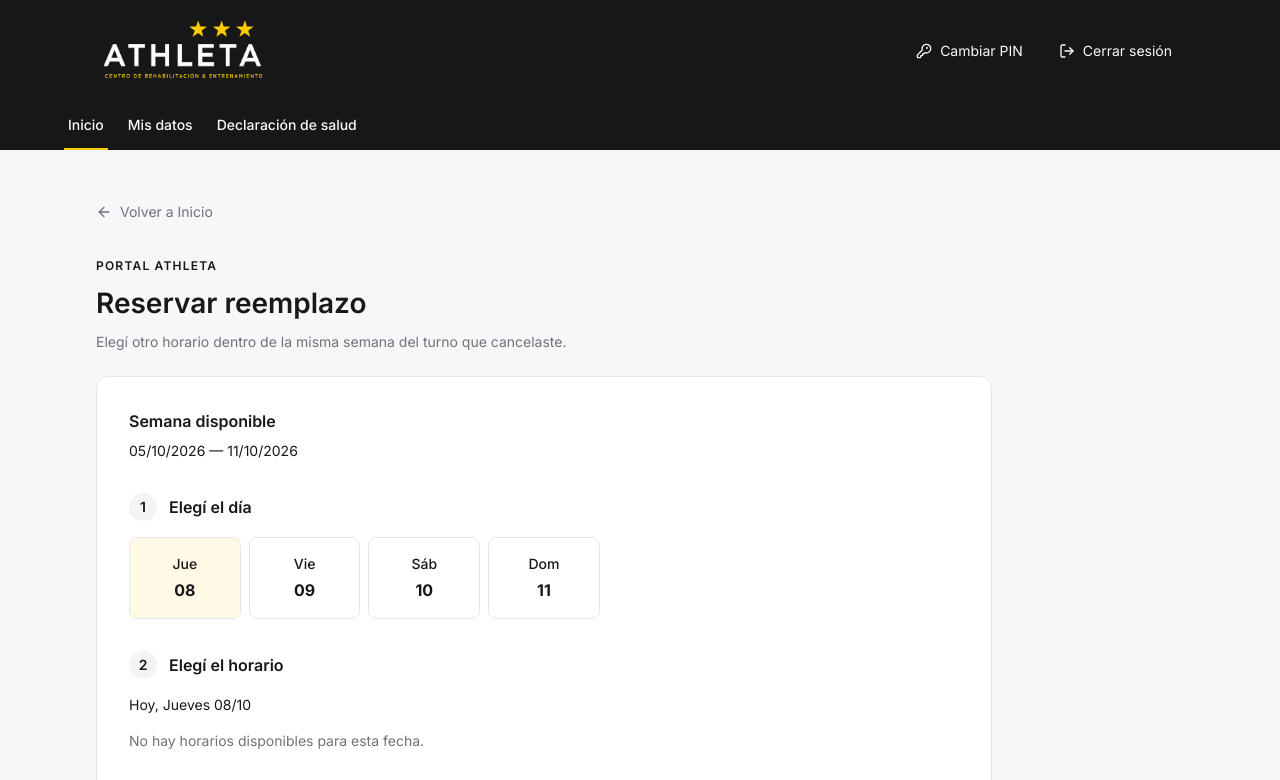
Scenario: retains tomorrow’s activities even when their equivalent time has passed today
Expected: the text "No hay horarios disponibles para esta fecha." is shown, [129,732,424,749]
Click the button with aria-label "viernes 09/10": (305, 578) [249,537,360,619]
(page scrolled)
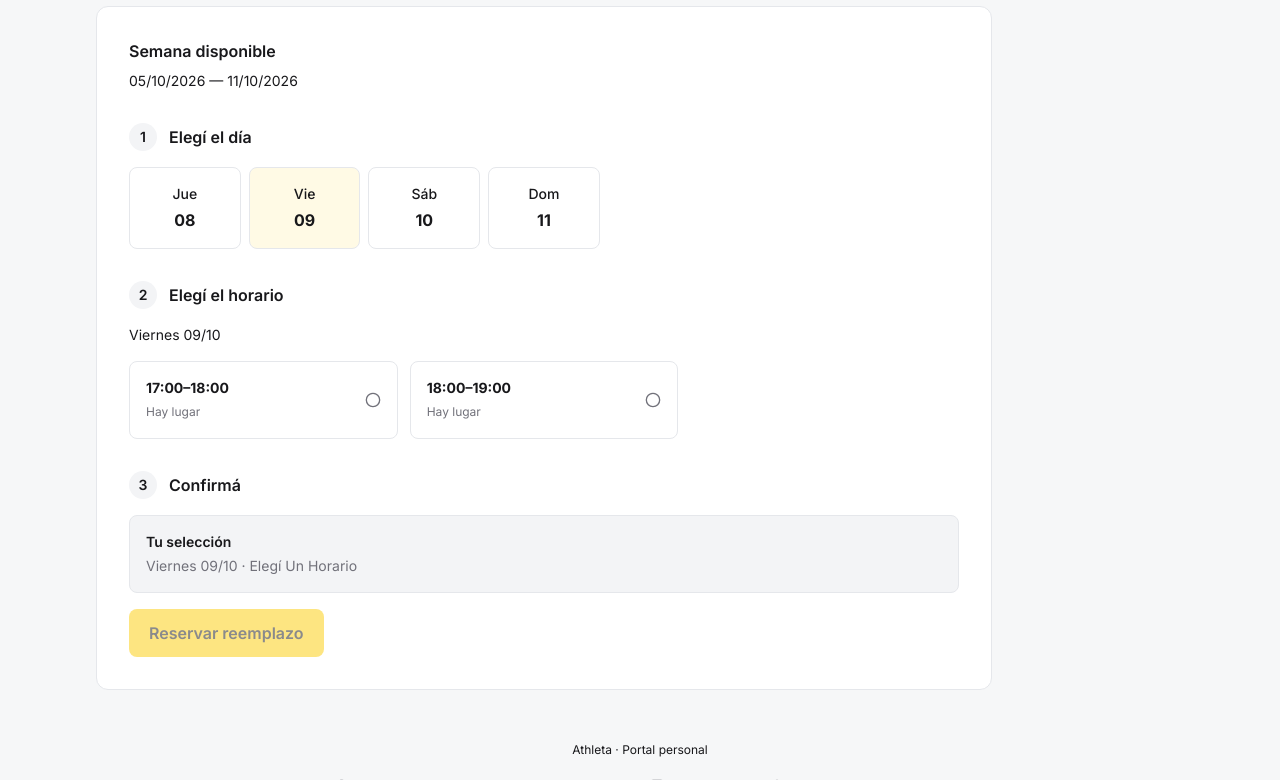
Now the button "17:00–18:00 Hay lugar" is enabled, box [129,361,398,439]
